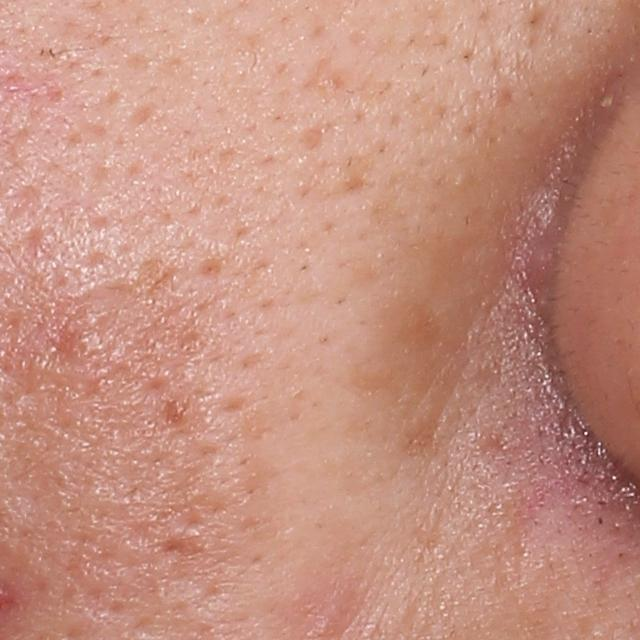atrophic_scar: (67, 277, 138, 328), (292, 122, 328, 154), (151, 535, 203, 556)
